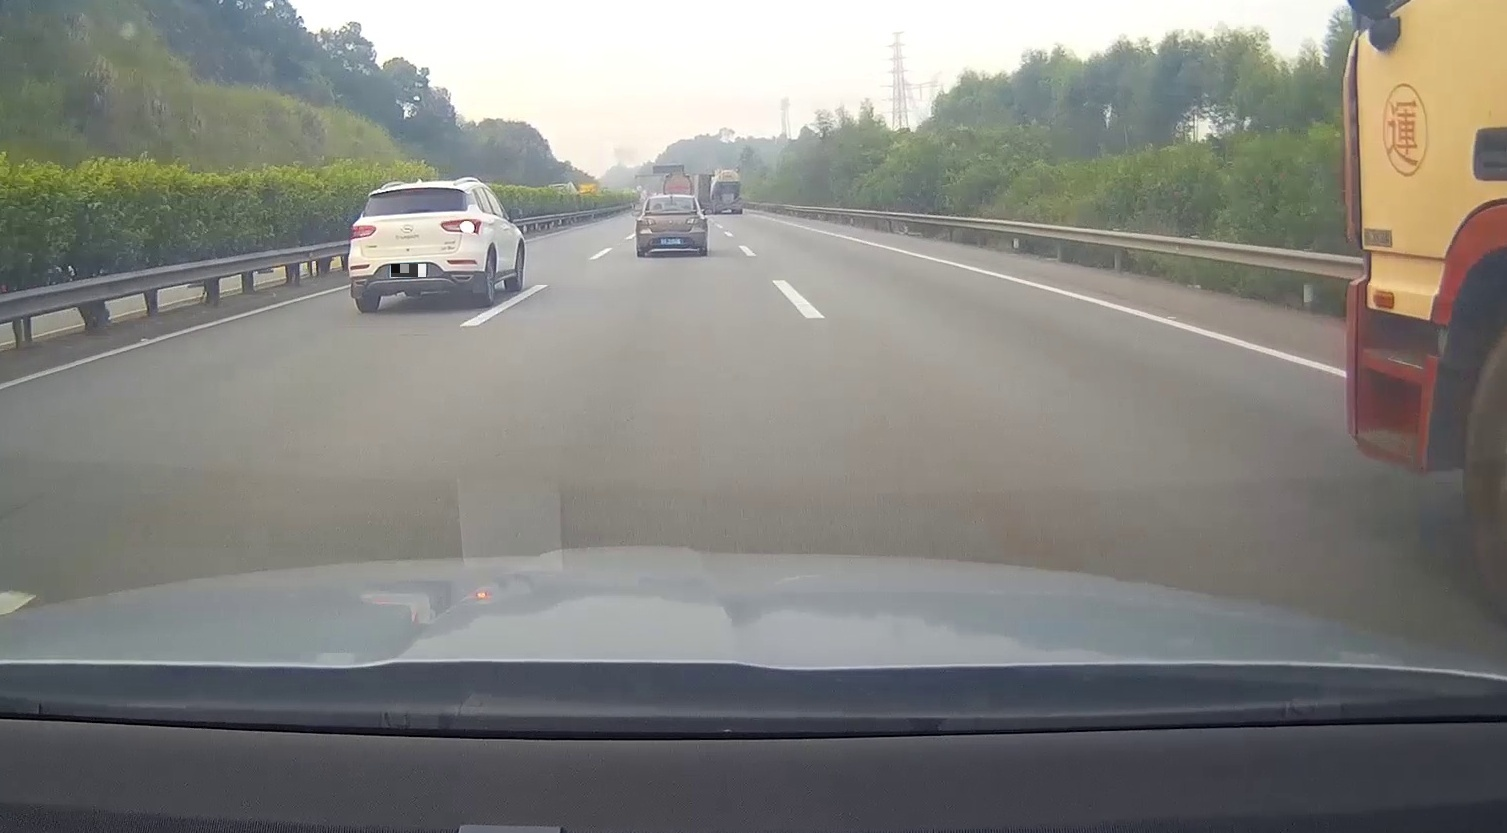L_light: (348, 224, 376, 240), (642, 217, 656, 226)
R_light: (441, 219, 480, 234), (686, 217, 702, 225)
T_light: (404, 189, 424, 193), (666, 198, 678, 200)
day-no: (636, 196, 708, 257)
day-right: (346, 184, 484, 314)
plate_1: (391, 264, 426, 277)
